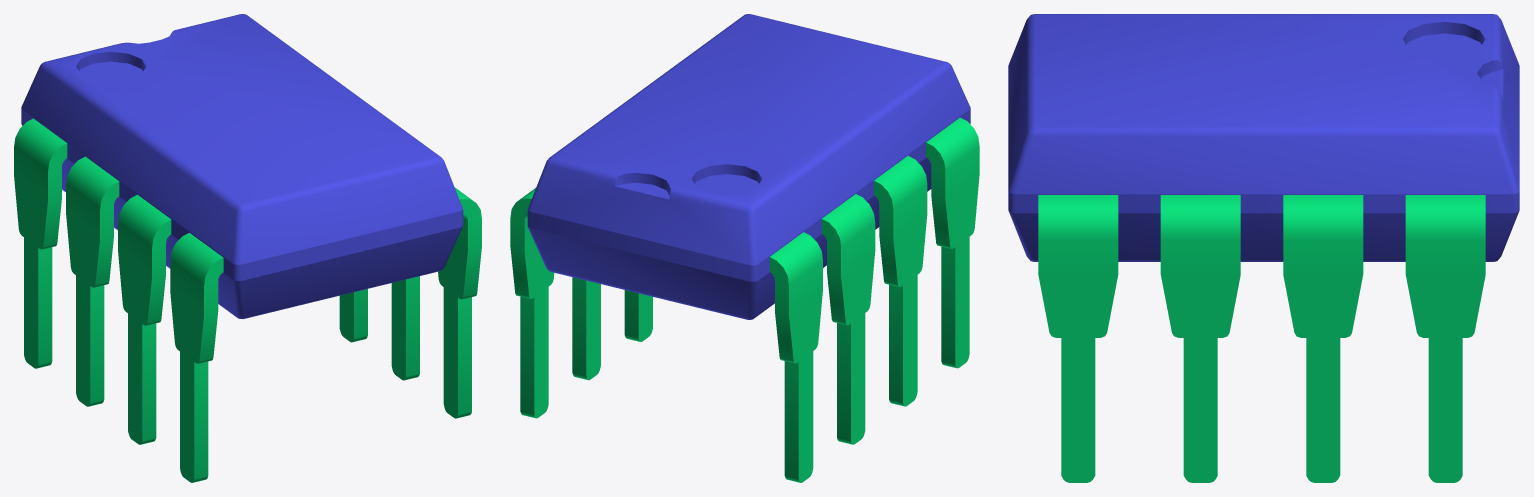
File: dip8.fbx
The picture shows the model from 3 angles, left to right: view 1: azimuth 30°, elevation 25°; view 2: azimuth 150°, elevation 25°; view 3: azimuth 270°, elevation 25°; orthographic projection. The views are drawn at different scales.
Parts seen in each view (by area): view 1: Cube.006, Cube.010, Cube.009, Cube.007, Cube.008; view 2: Cube.006, Cube.008, Cube.007, Cube.009, Cube.010; view 3: Cube.006, Cube.009, Cube.010, Cube.007, Cube.008.
Boxes of the visible parts, x1,y1,x2,y2 form: Cube.006: (21, 14, 463, 318); Cube.010: (170, 187, 481, 482); Cube.009: (118, 194, 419, 444); Cube.007: (66, 156, 367, 406); Cube.008: (14, 118, 67, 368); Cube.006: (527, 14, 970, 319); Cube.008: (510, 188, 822, 482); Cube.007: (572, 194, 875, 444); Cube.009: (624, 156, 927, 406); Cube.010: (926, 117, 979, 368); Cube.006: (1008, 14, 1519, 261); Cube.009: (1160, 195, 1240, 482); Cube.010: (1038, 195, 1118, 482); Cube.007: (1283, 195, 1363, 482); Cube.008: (1405, 195, 1485, 482).
Size of the model in its own units: 546 by 526 by 739.
